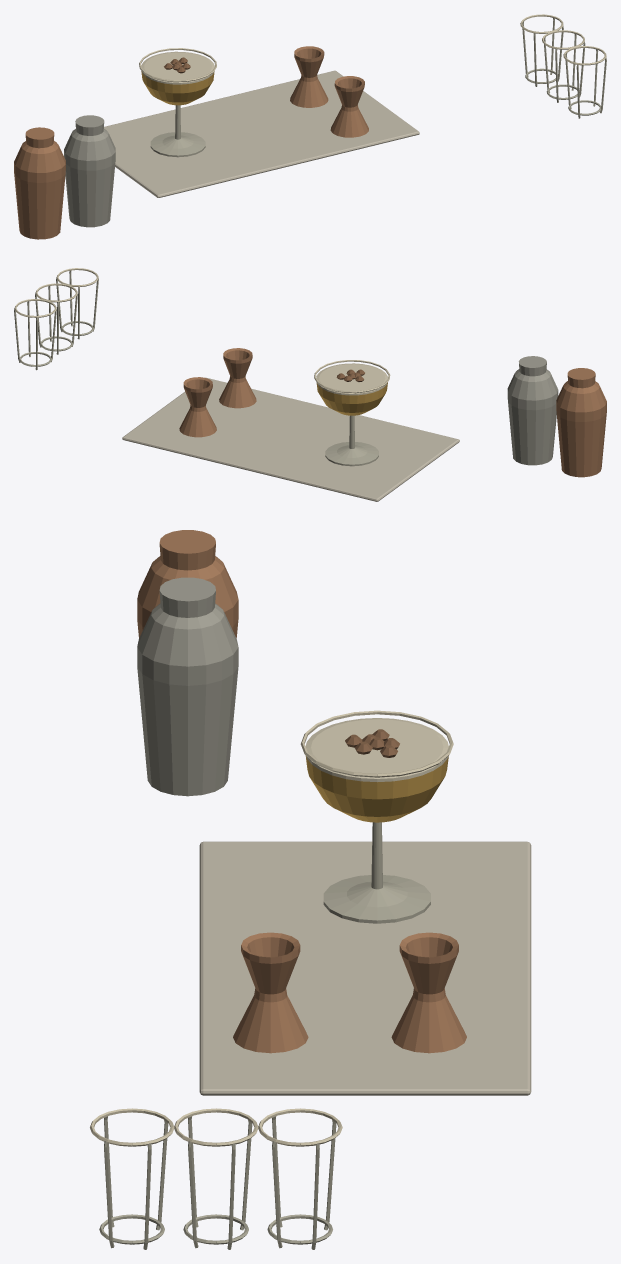
The model's file is service.glb.
3 renders of one model, top to bottom at view 1: azimuth 30°, elevation 25°; view 2: azimuth 150°, elevation 25°; view 3: azimuth 270°, elevation 25°, orthographic. The views are drawn at different scales.
Parts seen in each view (by area): view 1: MoboService; view 2: MoboService; view 3: MoboService.
Part boxes in pixels (x1,y1,x2,y2): MoboService: (14,14,606,239); MoboService: (14,268,606,501); MoboService: (90,530,531,1249).
Size of the model in its own units: 1.09 by 0.1775 by 0.3729.
